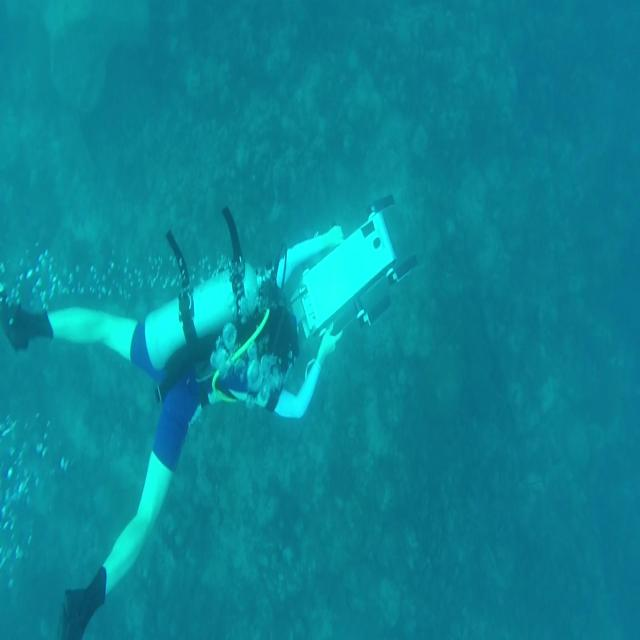human: (1, 193, 417, 638)
